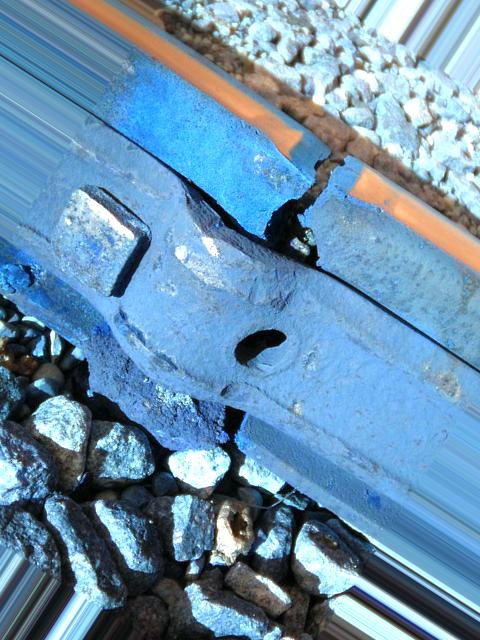tracks_fault: (102, 83, 383, 461)
